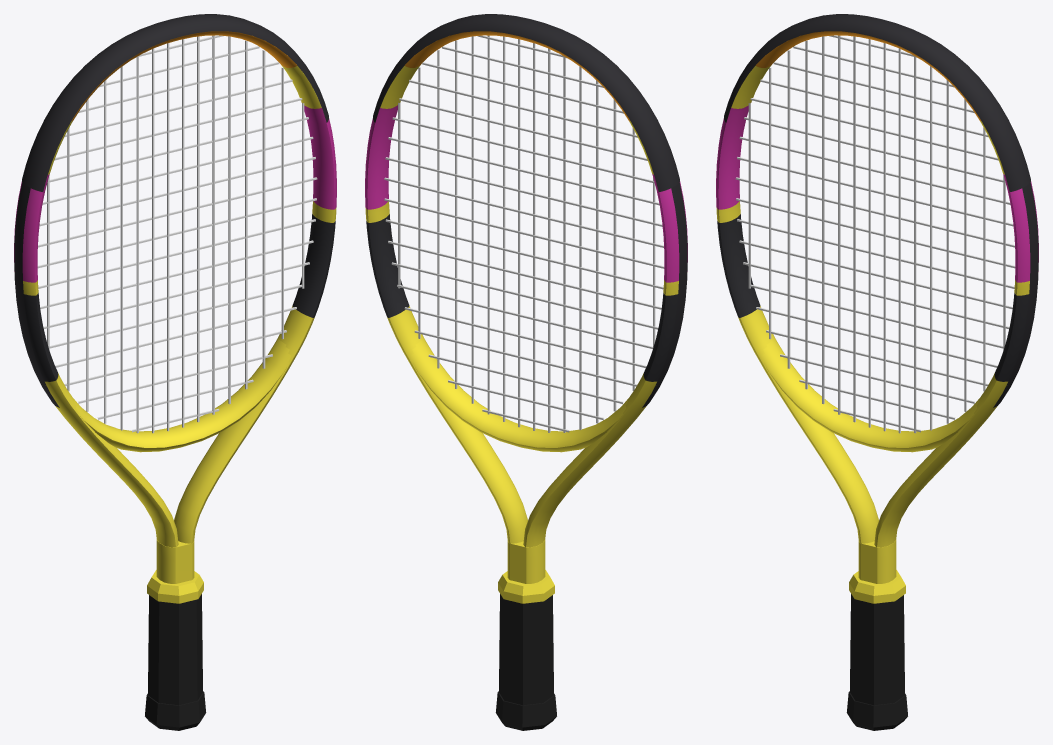
Rendered from babolat-rafa-nadal-junior-21-2021gen.glb.
3 renders of one model, left to right at view 1: azimuth 30°, elevation 25°; view 2: azimuth 150°, elevation 25°; view 3: azimuth 330°, elevation 25°, orthographic.
Visible parts, largest first — view 1: frame, strings_mains, strings_crosses, bumper, grip, grommets, butt_cap, collar; view 2: frame, strings_mains, strings_crosses, bumper, grip, grommets, butt_cap, collar; view 3: frame, strings_mains, strings_crosses, bumper, grip, grommets, butt_cap, collar.
Boxes of the visible parts, x1,y1,x2,y2 form: frame: [14, 31, 336, 583]; strings_mains: [47, 35, 304, 433]; strings_crosses: [37, 35, 317, 432]; bumper: [22, 14, 328, 191]; grip: [148, 594, 202, 705]; grommets: [14, 182, 59, 407]; butt_cap: [145, 691, 206, 730]; collar: [147, 570, 203, 603]; frame: [365, 31, 687, 583]; strings_mains: [398, 35, 655, 432]; strings_crosses: [384, 35, 664, 432]; bumper: [373, 14, 679, 191]; grip: [499, 594, 553, 705]; grommets: [642, 182, 687, 407]; butt_cap: [495, 691, 556, 730]; collar: [498, 570, 554, 603]; frame: [716, 31, 1038, 583]; strings_mains: [748, 35, 1005, 433]; strings_crosses: [735, 35, 1015, 432]; bumper: [724, 14, 1030, 191]; grip: [850, 594, 904, 705]; grommets: [993, 182, 1038, 407]; butt_cap: [846, 691, 907, 730]; collar: [849, 570, 905, 603].
Bounding box in the file's own units: 0.2525 × 0.5337 × 0.0396.
